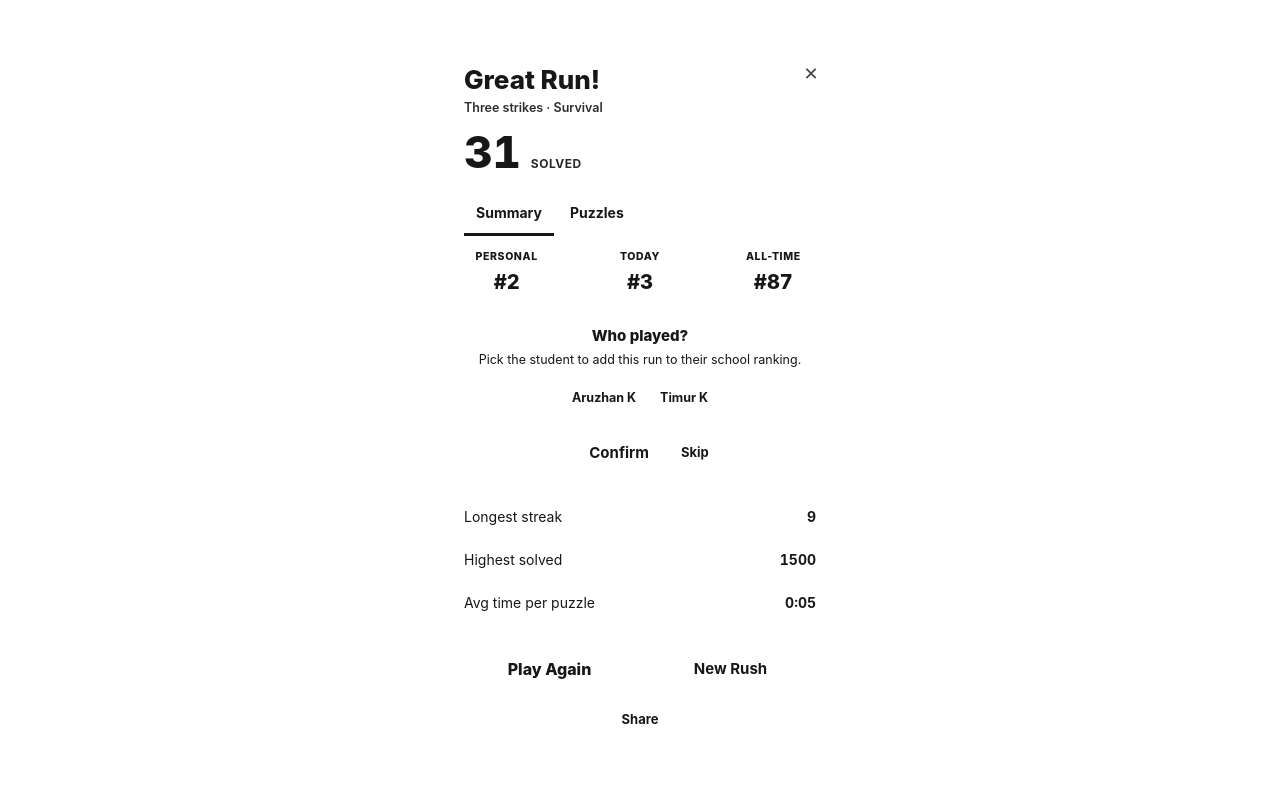
Test case: ResultsModal school outcome › needs_student: a failed claim keeps the picker with a retry note
The width and height of the screenshot is (1280, 800).
Click the button "Confirm". click: click(619, 453)
box: x1=571 y1=428 x2=667 y2=477
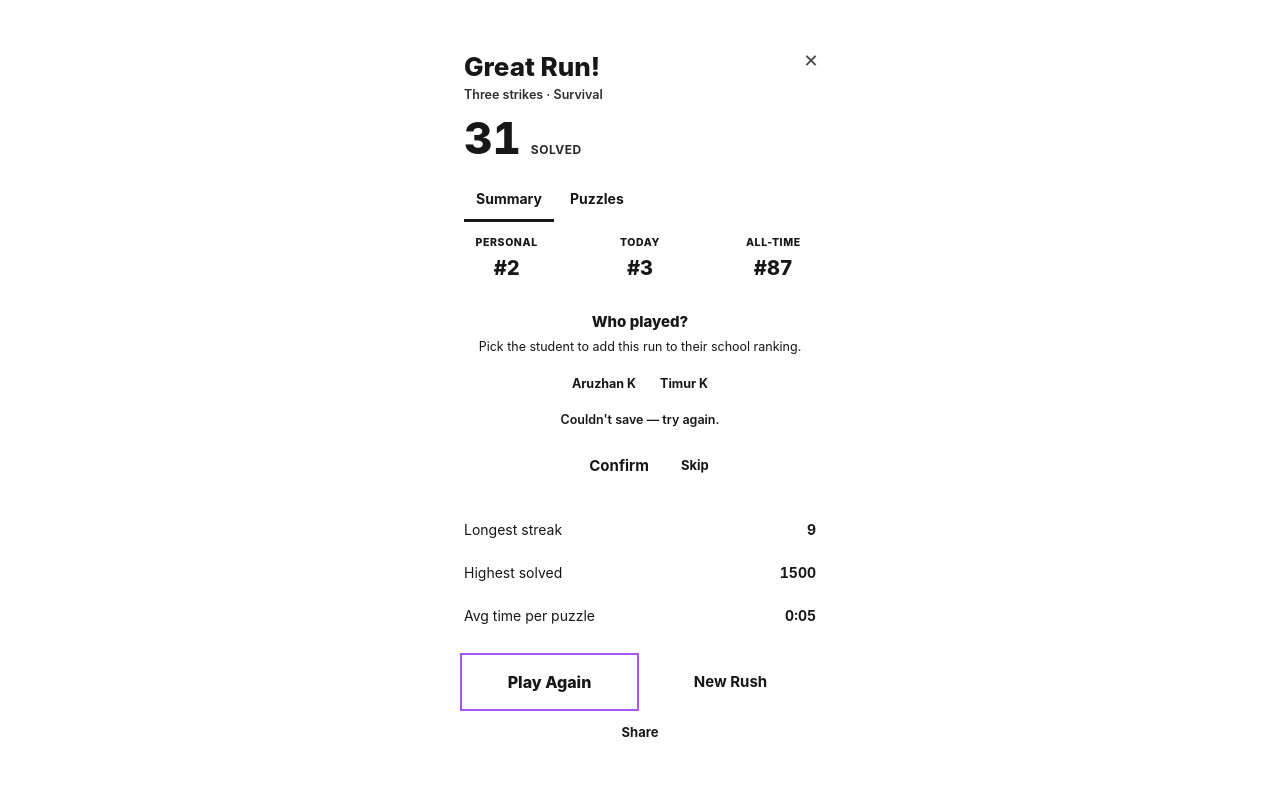
Expected: the text "Who played?" is shown, x1=592 y1=312 x2=688 y2=331
Expected: the text "Couldn't save — try again." is shown, x1=560 y1=412 x2=719 y2=427
